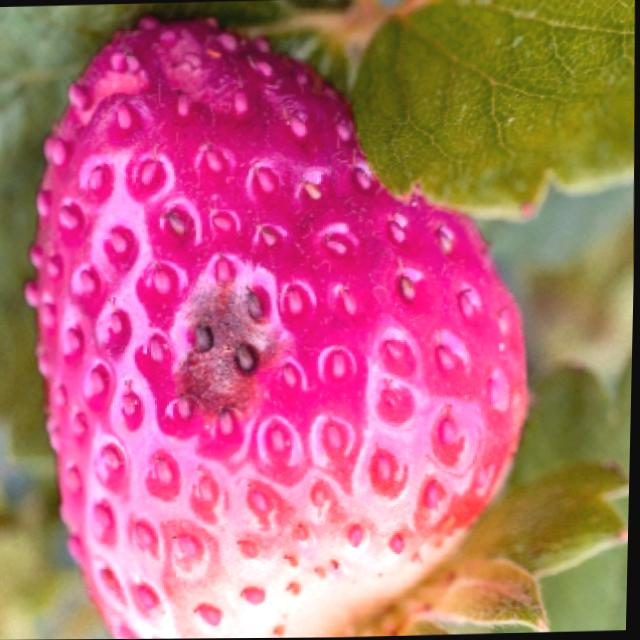Anthracnose Fruit Rot: (136, 257, 312, 459)
